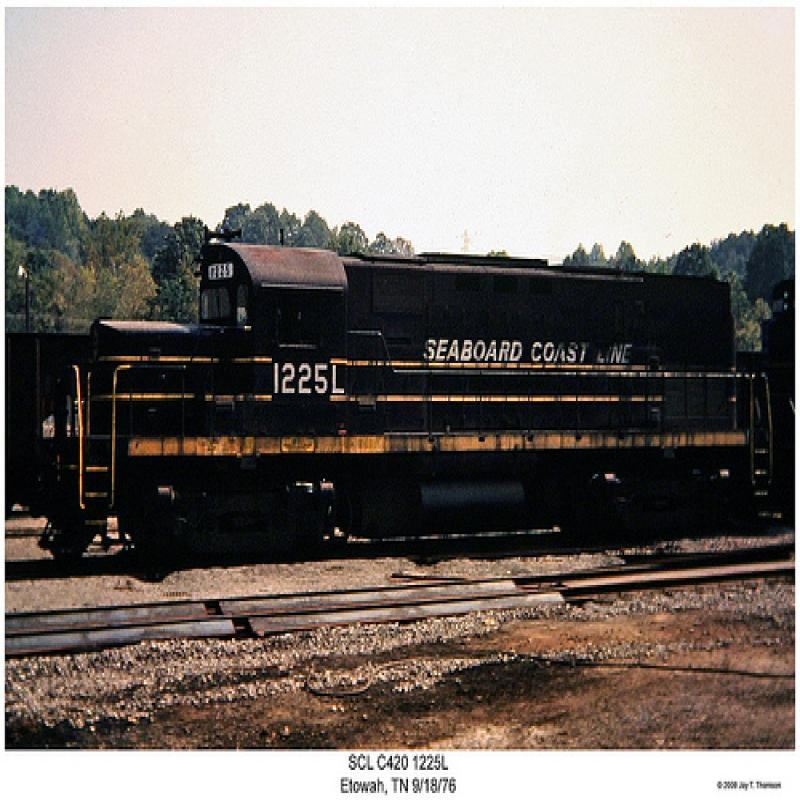train: (43, 241, 800, 586)
